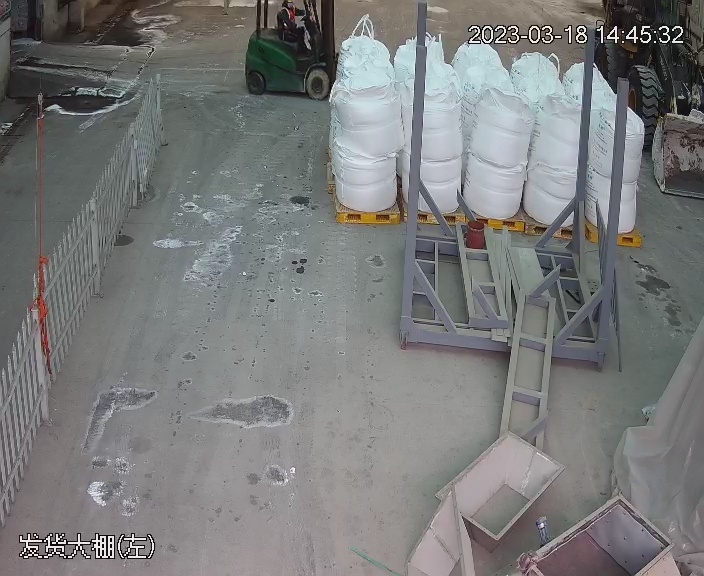head: (279, 0, 295, 17)
helmet: (283, 0, 293, 6)
people: (277, 0, 306, 48)
